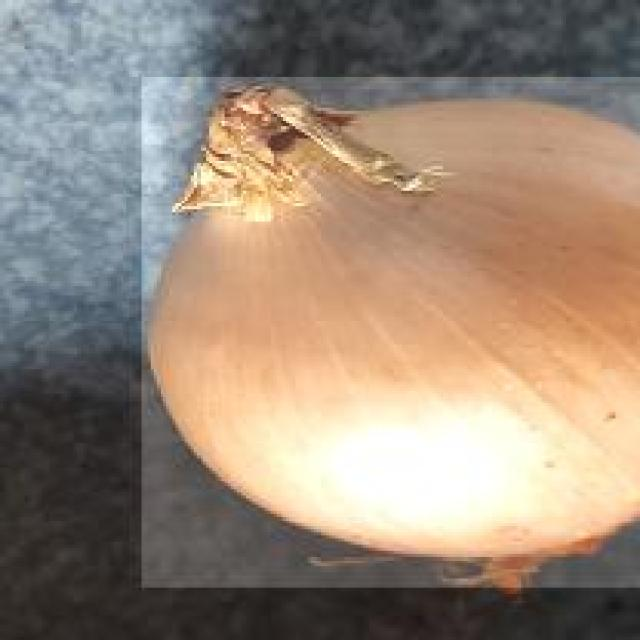onion: (141, 77, 640, 591)
